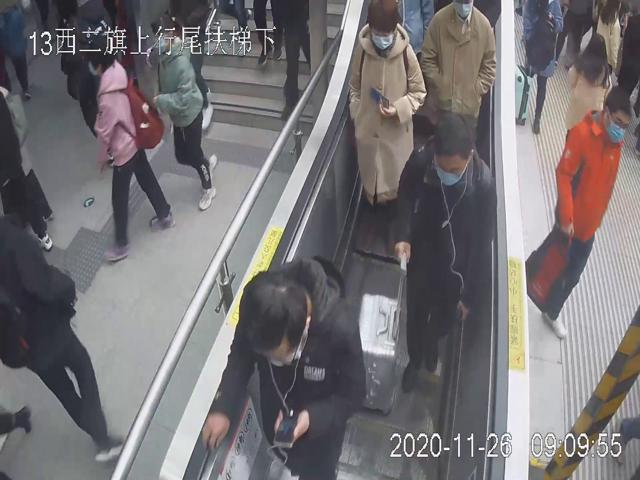person: (200, 251, 367, 480), (394, 110, 497, 395), (524, 87, 632, 338), (344, 0, 427, 261), (83, 30, 175, 261)
